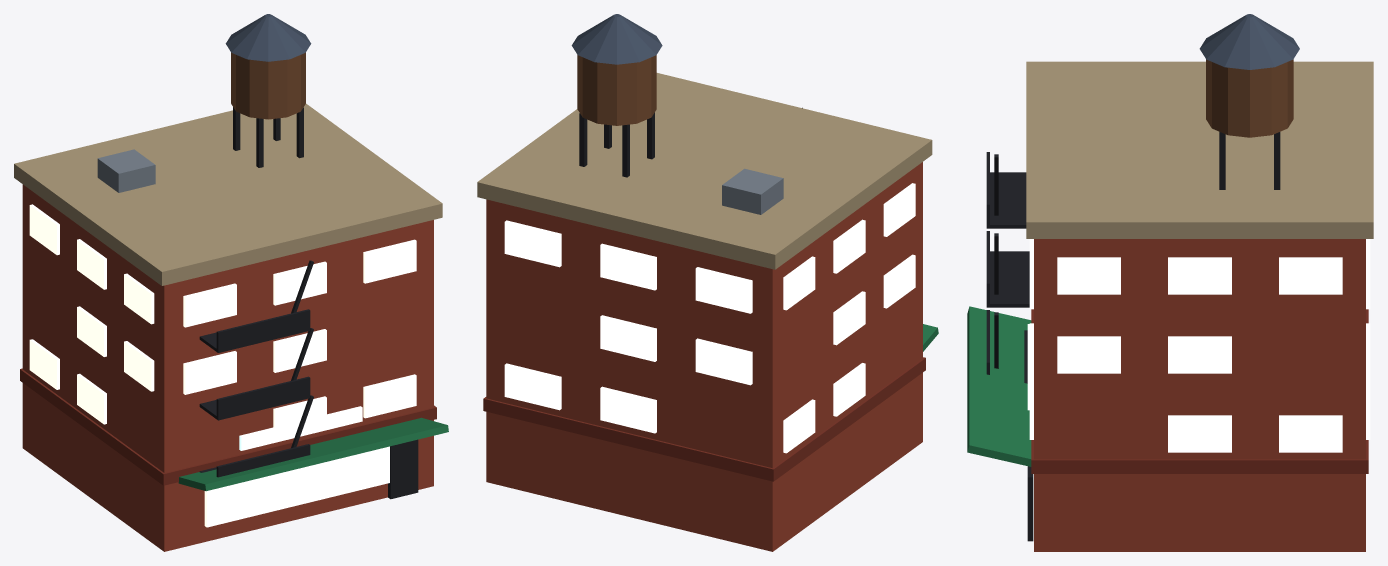
The model's file is ec2-walkup.glb.
The picture shows the model from 3 angles, left to right: view 1: azimuth 30°, elevation 25°; view 2: azimuth 150°, elevation 25°; view 3: azimuth 270°, elevation 25°; orthographic projection. The views are drawn at different scales.
Parts seen in each view (by area): view 1: cw_paint, cw_glow, cw_neon; view 2: cw_paint, cw_glow; view 3: cw_paint, cw_glow.
Boxes of the visible parts, x1=… form: cw_paint: x1=14, y1=14, x2=448, y2=551; cw_glow: x1=29, y1=204, x2=416, y2=527; cw_neon: x1=239, y1=406, x2=362, y2=450; cw_paint: x1=477, y1=14, x2=938, y2=551; cw_glow: x1=504, y1=183, x2=915, y2=453; cw_paint: x1=967, y1=14, x2=1373, y2=551; cw_glow: x1=1029, y1=239, x2=1370, y2=509.
Size of the model in its own units: 4.58 by 6.56 by 4.89.
